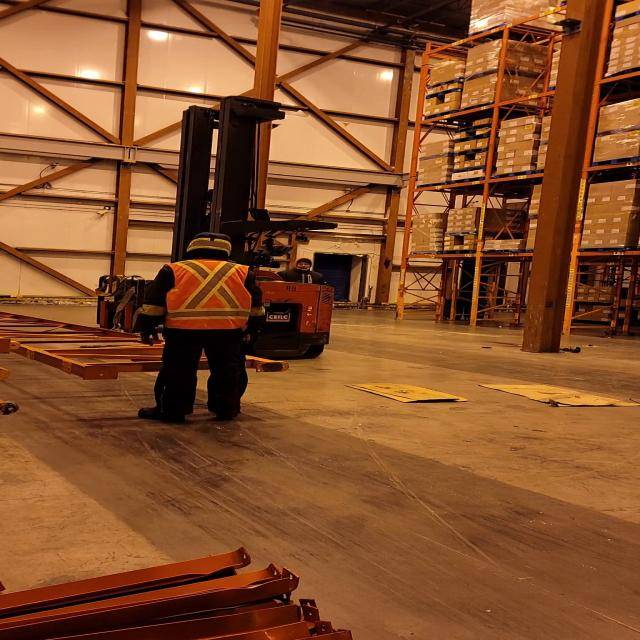forklift: (76, 103, 339, 375)
human: (137, 231, 255, 424), (272, 252, 334, 296)
objectofinterest: (0, 311, 296, 382), (479, 380, 640, 409), (338, 381, 471, 404)
